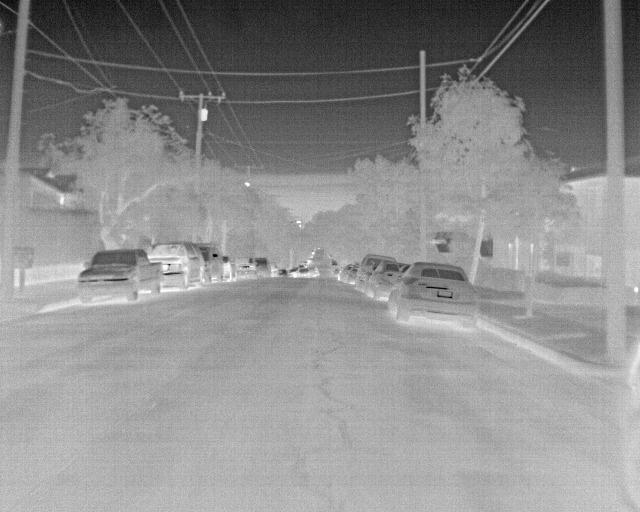car: (390, 261, 481, 326), (75, 246, 166, 304), (147, 243, 207, 287), (354, 255, 398, 292), (368, 260, 408, 298), (195, 246, 224, 280), (234, 262, 261, 279), (252, 257, 272, 278), (336, 264, 358, 282), (347, 267, 361, 284), (296, 267, 312, 280)
